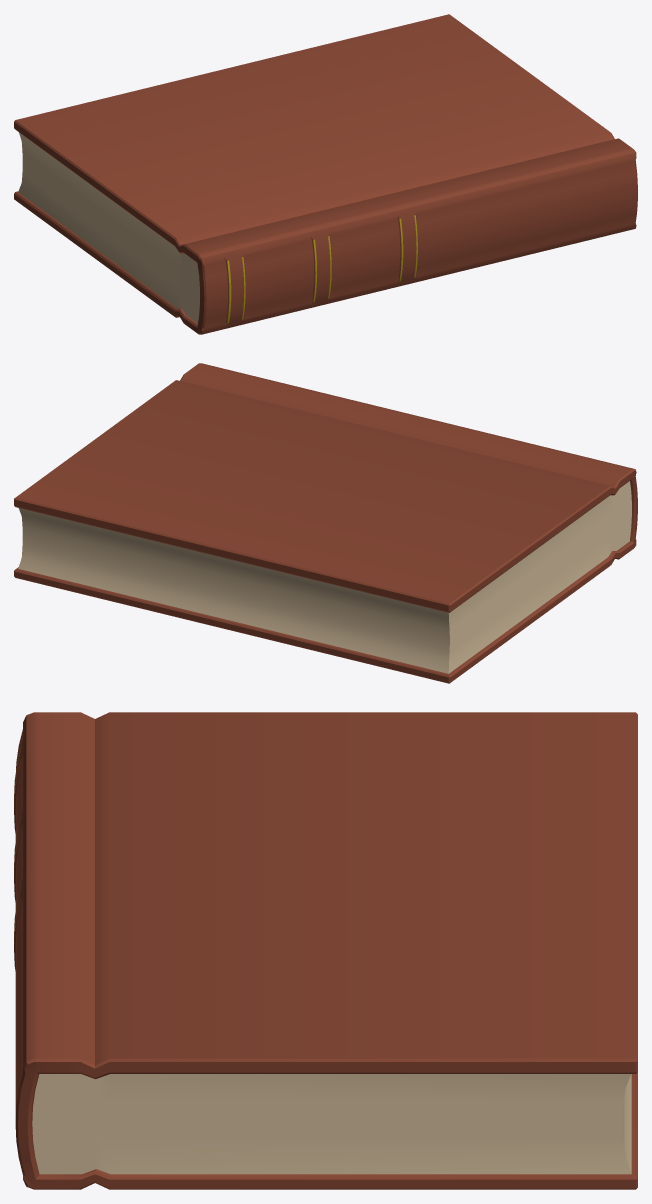
The model's file is Book.fbx.
3 renders of one model, top to bottom at view 1: azimuth 30°, elevation 25°; view 2: azimuth 150°, elevation 25°; view 3: azimuth 270°, elevation 25°, orthographic. The views are drawn at different scales.
Parts seen in each view (by area): view 1: Book; view 2: Book; view 3: Book.
Part boxes in pixels (x1,y1,x2,y2): Book: [14, 14, 637, 334]; Book: [14, 363, 637, 683]; Book: [14, 712, 637, 1189].
Bounding box in the file's own units: 50.67 × 8.88 × 38.32.
